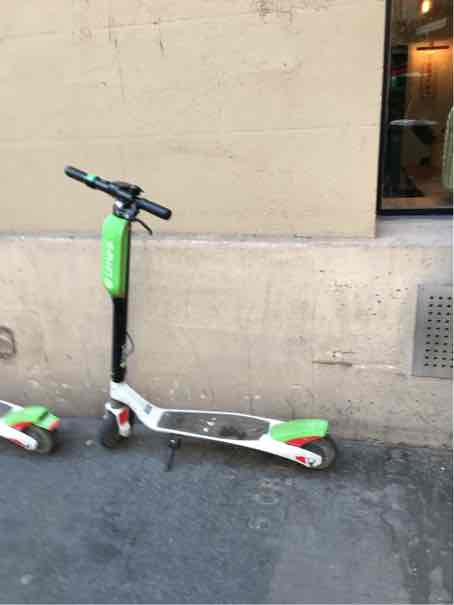scooter: (52, 162, 345, 478)
